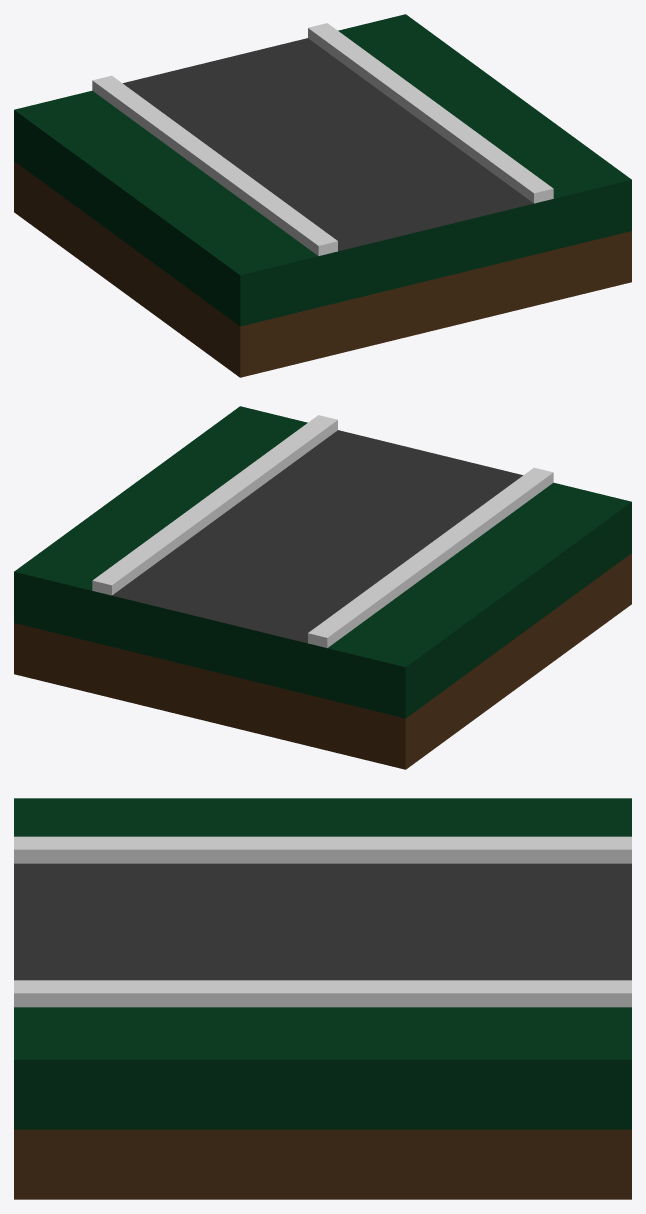
Rendered from Block_2.fbx.
3 views of the same model, one above another, from view 1: azimuth 30°, elevation 25°; view 2: azimuth 150°, elevation 25°; view 3: azimuth 270°, elevation 25° (orthographic). The views are drawn at different scales.
Parts seen in each view (by area): view 1: Block_2; view 2: Block_2; view 3: Block_2.
Boxes of the visible parts, x1,y1,x2,y2 form: Block_2: (14, 14, 631, 377); Block_2: (14, 406, 631, 769); Block_2: (14, 798, 631, 1199).
Size of the model in its own units: 400 by 110 by 400.
